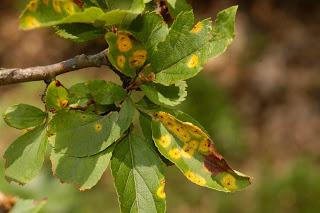Apple rust leaf: (148, 100, 260, 204), (140, 9, 260, 91), (44, 95, 139, 161), (96, 28, 156, 81)
